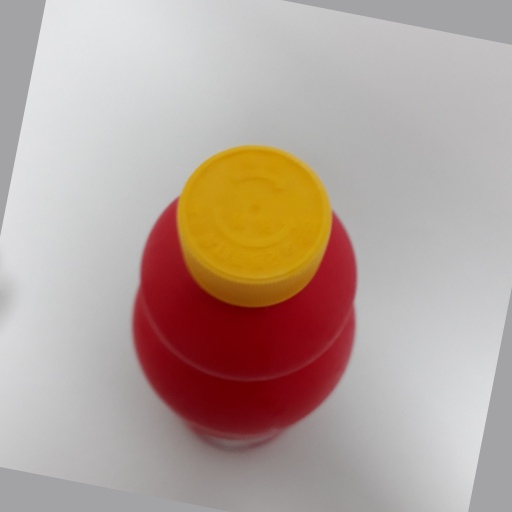Plastic_0: (123, 144, 362, 456)
